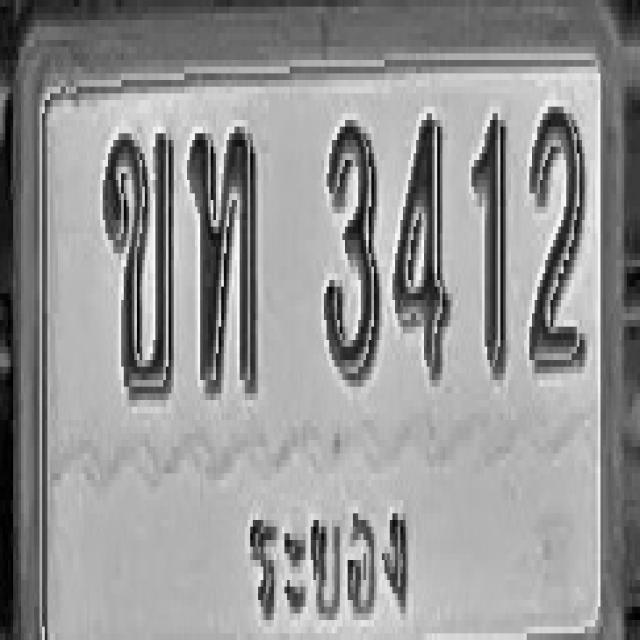1: (470, 110, 507, 377)
11KhorKhai: (103, 127, 174, 400)
2: (528, 103, 586, 370)
3: (324, 113, 379, 380)
32ThorThaHan: (188, 127, 260, 393)
4: (394, 113, 449, 380)
Rayong: (243, 501, 412, 638)
